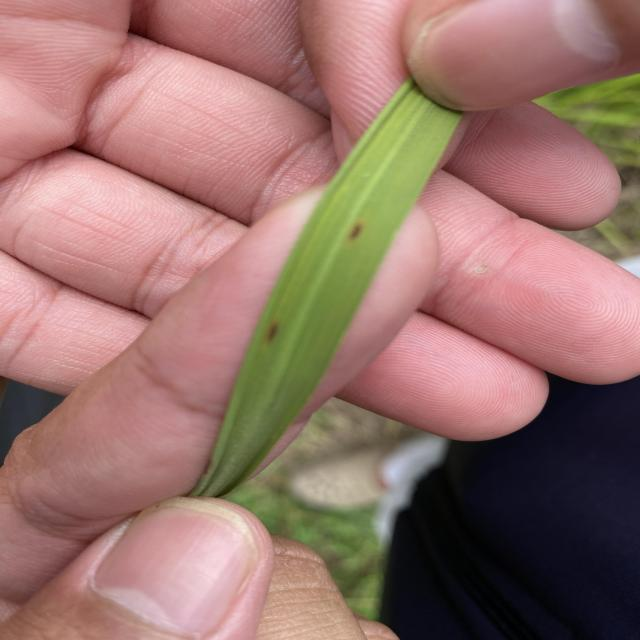Dom nau: (346, 220, 367, 245), (262, 320, 282, 345)
